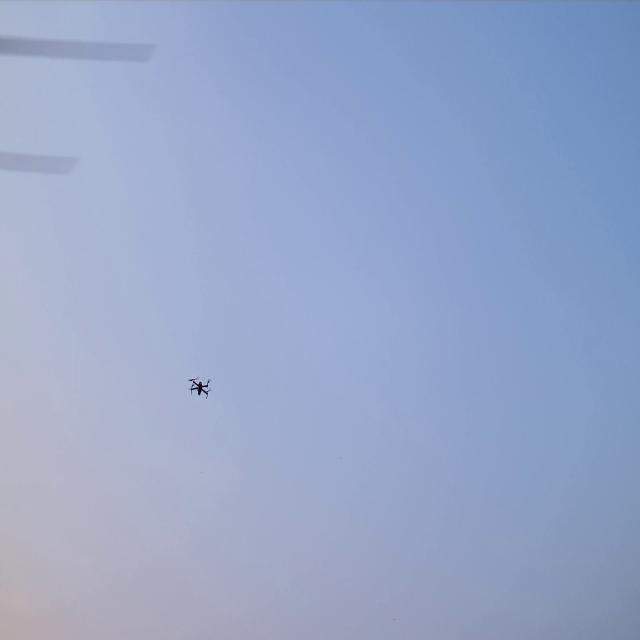UAV: (186, 375, 212, 399)
